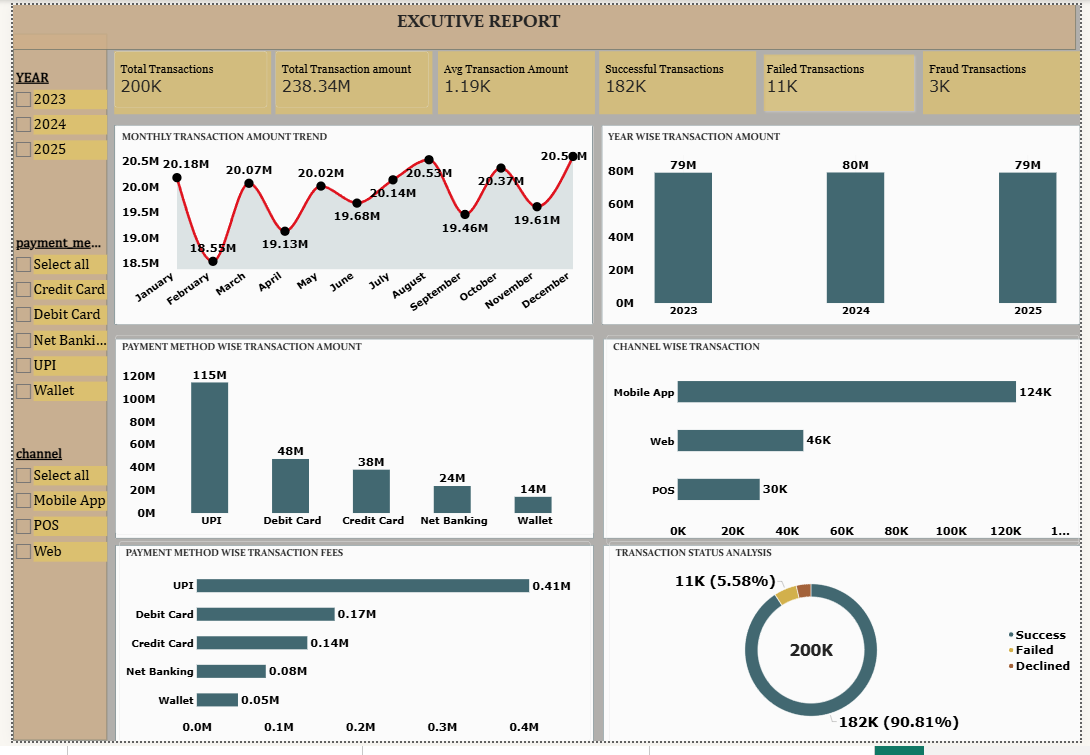

What the dashboard file says about the page in this screenshot:
{"tool":"powerbi","page":{"name":"EXCUTIVE DASHBOARD","canvas":[2900,2000],"ordinal":0},"visuals":[{"type":"group","id":"g1","title":"Group 4","box":[-12,-16,2912,2016],"z":0},{"type":"shape","box":[-12,-16,2902.3,139.1],"z":0,"group":"g7"},{"type":"shape","box":[0,80,256,1920],"z":0,"group":"g1"},{"type":"shape","box":[2473.6,126.8,426.4,171.3],"z":0,"group":"g3"},{"type":"shape","box":[276.8,326.7,1300,542.6],"z":0,"group":"g5"},{"type":"shape","box":[280.8,908.5,1300,542.6],"z":0,"group":"g2"},{"type":"shape","box":[280.8,1466.9,1300,542.6],"z":0,"group":"g4"},{"type":"textbox","box":[1044,16,736,96],"z":1000,"group":"g7"},{"type":"shape","box":[2034.3,126.8,426.4,171.3],"z":1000,"group":"g3"},{"type":"shape","box":[1600,326.7,1300,542.6],"z":1000,"group":"g5"},{"type":"group","id":"g2","title":"Group 2","box":[280.8,908.5,2599.1,533.1],"z":1000,"group":"g1"},{"type":"shape","box":[1604,908.5,1300,542.6],"z":1000,"group":"g2"},{"type":"donutChart","title":"TRANSACTION STATUS ANALYSIS","fields":{"Category":["public transactions.transaction_status"],"Y":["public customers.Total Transactions"]},"box":[1620,1456,1280,544],"z":1000},{"type":"shape","box":[1604,1466.9,1300,542.6],"z":1000,"group":"g4"},{"type":"group","id":"g3","title":"Group 3","box":[276.8,126.8,2623.2,171.3],"z":2000,"group":"g7"},{"type":"shape","box":[1594.9,126.8,426.4,171.3],"z":2000,"group":"g3"},{"type":"clusteredBarChart","title":"PAYMENT METHOD WISE TRANSACTION FEES","fields":{"Category":["public transactions.payment_method"],"Y":["public customers.Total Transaction Fees"]},"box":[288,1456,1280,544],"z":2000},{"type":"group","id":"g4","title":"Group 2","box":[280.8,1466.9,2599.1,533.1],"z":2000,"group":"g1"},{"type":"shape","box":[1155.5,126.8,426.4,171.3],"z":3000,"group":"g3"},{"type":"group","id":"g5","title":"Group 2","box":[276.8,326.7,2623.2,542.6],"z":3000,"group":"g1"},{"type":"shape","box":[716.2,126.8,426.4,171.3],"z":4000,"group":"g3"},{"type":"group","id":"g6","title":"Group 5","box":[0,176,256,1558.6],"z":4000,"group":"g1"},{"type":"slicer","fields":{"Values":["public transactions.payment_method"]},"box":[0,624,256,512],"z":4000,"group":"g6"},{"type":"shape","box":[276.8,126.8,426.4,171.3],"z":5000,"group":"g3"},{"type":"slicer","fields":{"Values":["public transactions.transaction_date.Variation.Date Hierarchy.Year"]},"box":[0,176,256,416],"z":5000,"group":"g6"},{"type":"lineChart","title":"MONTHLY TRANSACTION AMOUNT TREND","fields":{"Category":["public transactions.transaction_date.Variation.Date Hierarchy.Month"],"Y":["public customers.Total Transaction Value"]},"box":[280.8,326.7,1299.6,542.6],"z":5000,"group":"g1"},{"type":"clusteredColumnChart","title":"YEAR WISE TRANSACTION AMOUNT","fields":{"Category":["public transactions.transaction_date.Variation.Date Hierarchy.Year"],"Y":["public customers.Total Transaction Value"]},"box":[1600.4,326.7,1299.6,542.6],"z":6000,"group":"g1"},{"type":"slicer","fields":{"Values":["public transactions.channel"]},"box":[0,1200,256,534.6],"z":6000,"group":"g6"},{"type":"group","id":"g7","title":"Group 1","box":[-12,-16,2912,314.1],"z":7000,"group":"g1"},{"type":"clusteredColumnChart","title":"PAYMENT METHOD WISE TRANSACTION AMOUNT","fields":{"Category":["public transactions.payment_method"],"Y":["public customers.Total Transaction Value"]},"box":[280.8,897.8,1299.6,542.6],"z":8000,"group":"g1"},{"type":"clusteredBarChart","title":"CHANNEL WISE TRANSACTION","fields":{"Category":["public transactions.channel"],"Y":["public customers.Total Transactions"]},"box":[1616.5,897.8,1283.5,571.2],"z":9000,"group":"g1"},{"type":"cardVisual","title":"TOTAL TRANSACTION AMOUNT","fields":{"Data":["public customers.Total Transaction Value"]},"box":[716.2,126.8,416.2,153.5],"z":12000,"group":"g3"},{"type":"cardVisual","fields":{"Data":["public customers.Average Transaction Amount"]},"box":[1155.5,126.8,416.2,153.5],"z":13000,"group":"g3"},{"type":"cardVisual","fields":{"Data":["public customers.Failed Transactions"]},"box":[2034.3,126.8,416.2,153.5],"z":14000,"group":"g3"},{"type":"cardVisual","fields":{"Data":["public customers.Fraud Transactions"]},"box":[2473.6,126.8,416.2,153.5],"z":15000,"group":"g3"},{"type":"cardVisual","fields":{"Data":["public customers.Total Transactions"]},"box":[276.8,126.8,416.2,153.5],"z":16000,"group":"g3"},{"type":"cardVisual","fields":{"Data":["public customers.Successful Transactions"]},"box":[1594.9,126.8,416.2,153.5],"z":17000,"group":"g3"}]}

Visuals, with their boxes in screenshot pixels (x1, y1, x2, y2), scaled from the page's 2900x2000 canvas onto the 1090x755 screenshot:
"Group 4" group: x1=0, y1=0, x2=1089, y2=754
shape: x1=0, y1=0, x2=1086, y2=46
shape: x1=0, y1=30, x2=96, y2=754
shape: x1=930, y1=48, x2=1089, y2=113
shape: x1=104, y1=123, x2=593, y2=328
shape: x1=106, y1=343, x2=594, y2=548
shape: x1=106, y1=554, x2=594, y2=754
textbox: x1=392, y1=6, x2=669, y2=42
shape: x1=765, y1=48, x2=925, y2=113
shape: x1=601, y1=123, x2=1089, y2=328
"Group 2" group: x1=106, y1=343, x2=1082, y2=544
shape: x1=603, y1=343, x2=1089, y2=548
"TRANSACTION STATUS ANALYSIS" donutChart: x1=609, y1=550, x2=1089, y2=754
shape: x1=603, y1=554, x2=1089, y2=754
"Group 3" group: x1=104, y1=48, x2=1089, y2=113
shape: x1=599, y1=48, x2=760, y2=113
"PAYMENT METHOD WISE TRANSACTION FEES" clusteredBarChart: x1=108, y1=550, x2=589, y2=754
"Group 2" group: x1=106, y1=554, x2=1082, y2=754
shape: x1=434, y1=48, x2=595, y2=113
"Group 2" group: x1=104, y1=123, x2=1089, y2=328
shape: x1=269, y1=48, x2=429, y2=113
"Group 5" group: x1=0, y1=66, x2=96, y2=655
slicer - public transactions.payment_method: x1=0, y1=236, x2=96, y2=429
shape: x1=104, y1=48, x2=264, y2=113
slicer - public transactions.transaction_date.Variation.Date Hierarchy.Year: x1=0, y1=66, x2=96, y2=223
"MONTHLY TRANSACTION AMOUNT TREND" lineChart: x1=106, y1=123, x2=594, y2=328
"YEAR WISE TRANSACTION AMOUNT" clusteredColumnChart: x1=602, y1=123, x2=1089, y2=328
slicer - public transactions.channel: x1=0, y1=453, x2=96, y2=655
"Group 1" group: x1=0, y1=0, x2=1089, y2=113
"PAYMENT METHOD WISE TRANSACTION AMOUNT" clusteredColumnChart: x1=106, y1=339, x2=594, y2=544
"CHANNEL WISE TRANSACTION" clusteredBarChart: x1=608, y1=339, x2=1089, y2=555
"TOTAL TRANSACTION AMOUNT" cardVisual: x1=269, y1=48, x2=426, y2=106
cardVisual - public customers.Average Transaction Amount: x1=434, y1=48, x2=591, y2=106
cardVisual - public customers.Failed Transactions: x1=765, y1=48, x2=921, y2=106
cardVisual - public customers.Fraud Transactions: x1=930, y1=48, x2=1086, y2=106
cardVisual - public customers.Total Transactions: x1=104, y1=48, x2=260, y2=106
cardVisual - public customers.Successful Transactions: x1=599, y1=48, x2=756, y2=106
